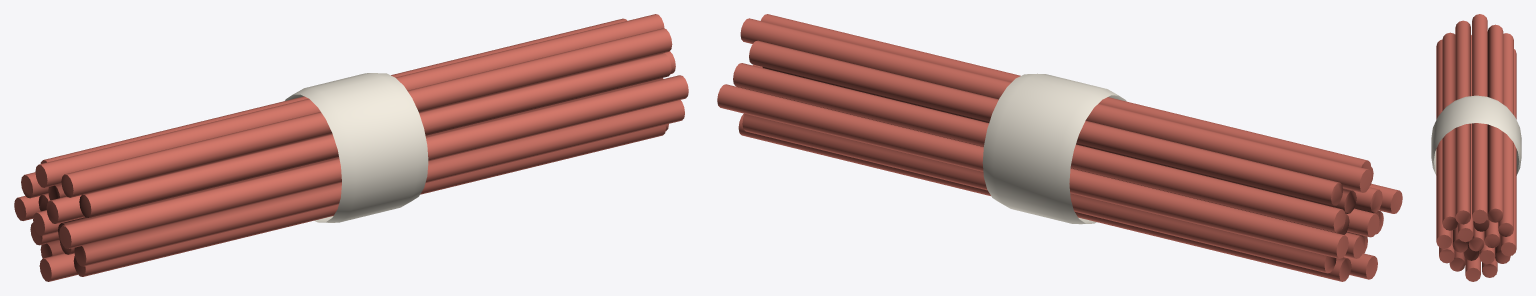
The model's file is food_noodle.glb.
The picture shows the model from 3 angles, left to right: view 1: azimuth 30°, elevation 25°; view 2: azimuth 150°, elevation 25°; view 3: azimuth 270°, elevation 25°; orthographic projection. The views are drawn at different scales.
Parts seen in each view (by area): view 1: PART; view 2: PART; view 3: PART.
Part boxes in pixels (x1,y1,x2,y2): PART: (14, 14, 688, 281); PART: (717, 14, 1402, 281); PART: (1431, 14, 1521, 281).
Bounding box in the file's own units: 0.2019 × 0.039 × 0.039.
